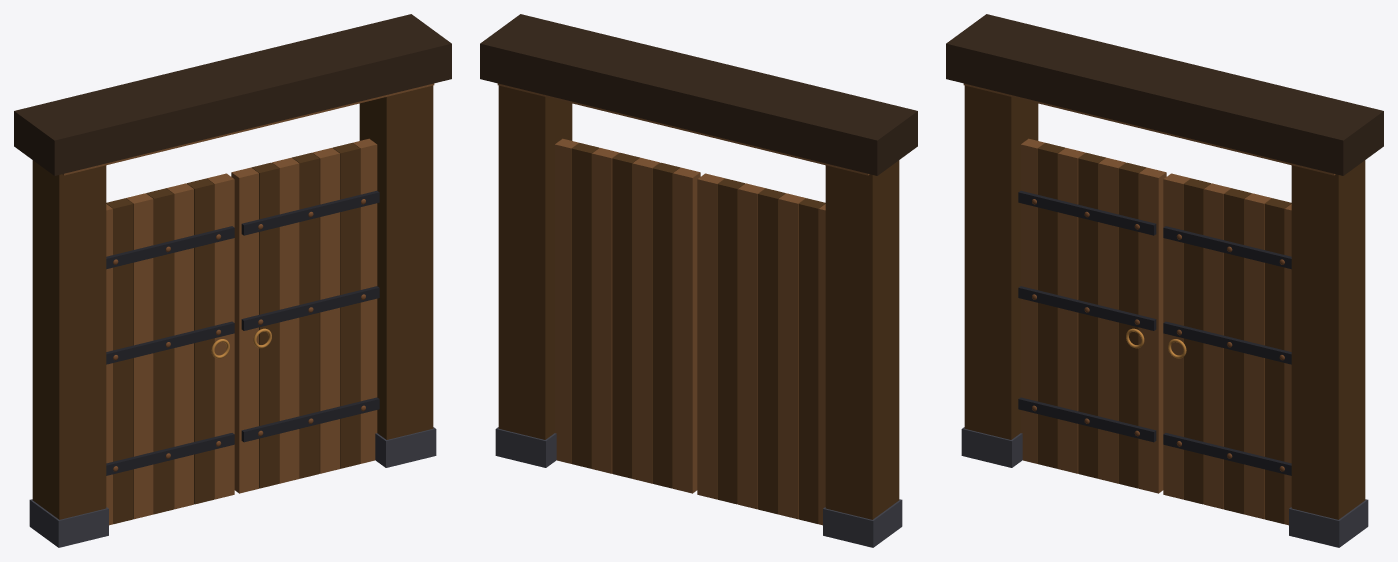
File: mia-big_gate.glb
3 views of the same model, side by side, from view 1: azimuth 30°, elevation 25°; view 2: azimuth 150°, elevation 25°; view 3: azimuth 330°, elevation 25° (orthographic).
Visible parts, largest first — view 1: Body_wood, Body_oak, Body_grain, Body_iron, Body_stone; view 2: Body_wood, Body_oak, Body_grain, Body_stone; view 3: Body_wood, Body_oak, Body_grain, Body_iron, Body_stone.
Boxes of the visible parts, x1,y1,x2,y2 form: Body_wood: [32, 85, 433, 523]; Body_oak: [62, 83, 434, 525]; Body_grain: [14, 14, 451, 175]; Body_iron: [106, 190, 379, 475]; Body_stone: [29, 427, 436, 547]; Body_wood: [498, 85, 899, 523]; Body_oak: [497, 83, 869, 525]; Body_grain: [480, 14, 917, 175]; Body_stone: [495, 427, 902, 547]; Body_wood: [964, 85, 1365, 523]; Body_oak: [963, 83, 1335, 525]; Body_grain: [946, 14, 1383, 175]; Body_iron: [1018, 190, 1291, 475]; Body_stone: [961, 427, 1368, 547].
Bounding box in the file's own units: 3.4 × 3.39 × 0.6.
